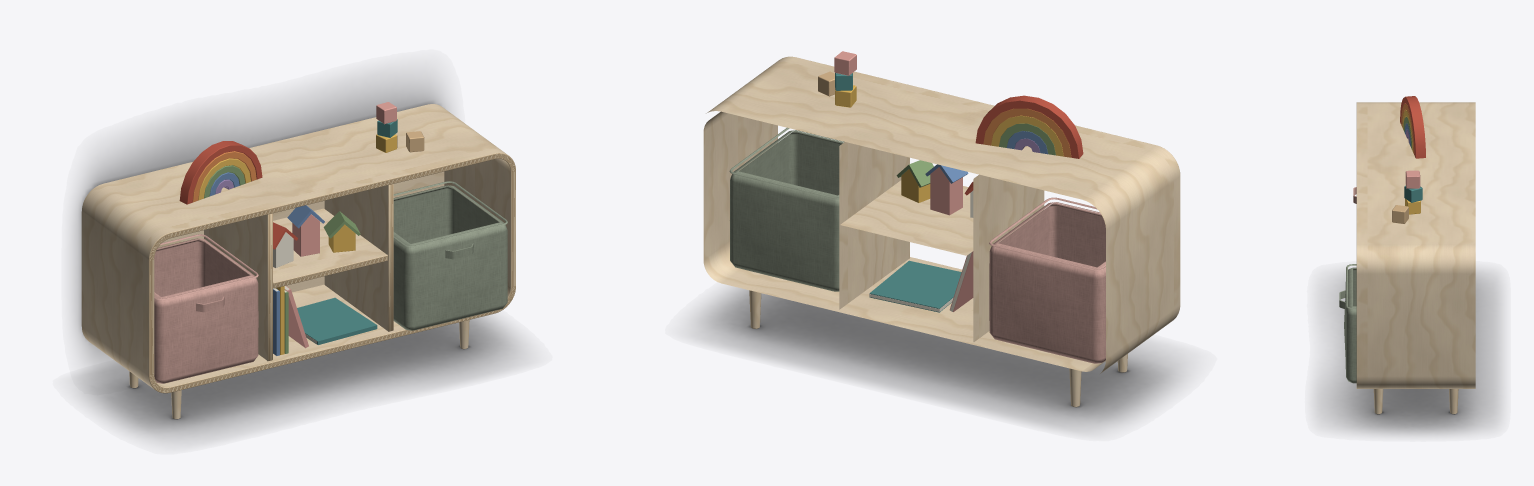
Rendered from toy_cabinet.glb.
3 views of the same model, side by side, from view 1: azimuth 30°, elevation 25°; view 2: azimuth 150°, elevation 25°; view 3: azimuth 270°, elevation 25° (orthographic). The views are drawn at different scales.
Visible parts, largest first — view 1: toy_cabinet_LOD0, toy_cabinet_Shadow; view 2: toy_cabinet_LOD0, toy_cabinet_Shadow; view 3: toy_cabinet_LOD0, toy_cabinet_Shadow.
Part boxes in pixels (x1,y1,x2,y2): toy_cabinet_LOD0: (81, 102, 515, 419); toy_cabinet_Shadow: (74, 78, 520, 439); toy_cabinet_LOD0: (703, 51, 1180, 406); toy_cabinet_Shadow: (697, 287, 1180, 429); toy_cabinet_LOD0: (1339, 96, 1475, 414); toy_cabinet_Shadow: (1318, 271, 1499, 434).
Size of what is drawn, in the model's own units: 1.48 by 0.9586 by 0.715.
Materials: 7 (7 with a texture image).
